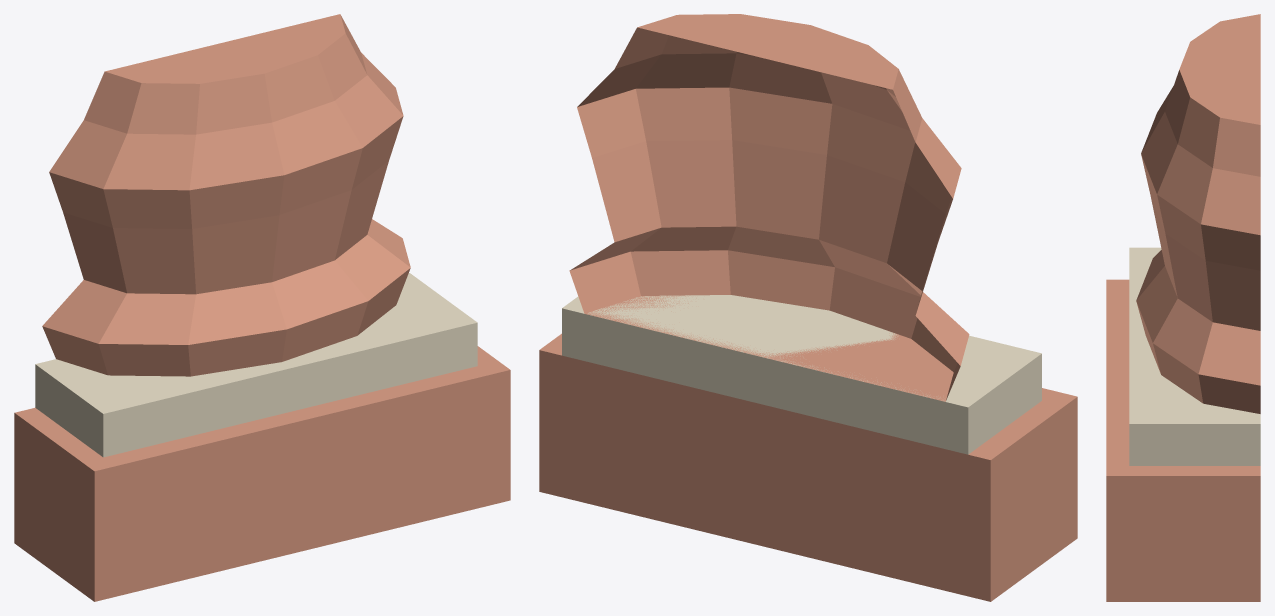
The model's file is kit_pilaster_base.glb.
The picture shows the model from 3 angles, left to right: view 1: azimuth 30°, elevation 25°; view 2: azimuth 150°, elevation 25°; view 3: azimuth 270°, elevation 25°; orthographic projection. The views are drawn at different scales.
Parts seen in each view (by area): view 1: kit_pilaster_base; view 2: kit_pilaster_base; view 3: kit_pilaster_base.
Boxes of the visible parts, box(x1,y1,x2,y2) form: kit_pilaster_base: box(14, 14, 510, 601); kit_pilaster_base: box(539, 14, 1077, 601); kit_pilaster_base: box(1106, 14, 1260, 601).
Size of the model in its own units: 0.6 by 0.62 by 0.2.
